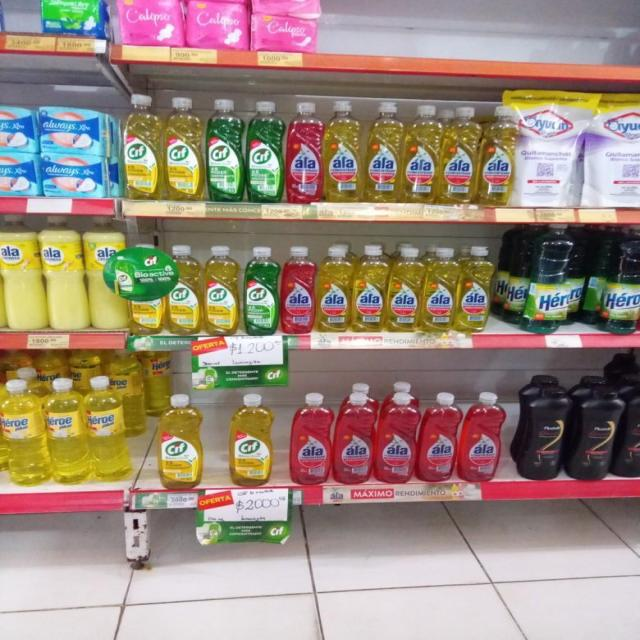ala_conc_amarillo: (364, 100, 402, 204), (324, 100, 362, 204), (441, 104, 478, 206), (403, 102, 440, 204), (480, 104, 514, 206), (317, 244, 351, 333), (423, 245, 457, 333), (388, 245, 422, 332), (459, 245, 493, 332), (353, 244, 386, 333)
ala_conc_rojo: (376, 381, 418, 485), (334, 382, 375, 486), (288, 392, 332, 486), (461, 391, 505, 482), (286, 100, 322, 204), (420, 391, 459, 483), (281, 246, 315, 334)
ala_crem_amarillo: (0, 213, 40, 331)
cif_conc_bot_amarilla: (155, 392, 204, 490), (228, 392, 276, 487), (164, 96, 204, 202), (123, 92, 162, 200), (204, 244, 240, 336), (168, 244, 202, 335)
cif_conc_botella_verde: (206, 98, 244, 202), (246, 100, 284, 204), (243, 245, 279, 336)
drive: (112, 0, 183, 47), (186, 0, 248, 50)
heroe: (1, 377, 46, 486)
